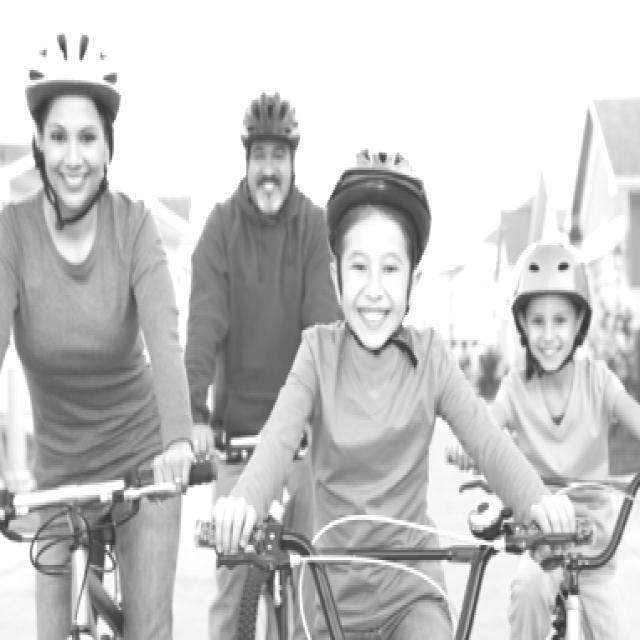Helmet: (322, 138, 441, 358), (24, 15, 130, 240), (508, 235, 596, 373), (233, 80, 308, 218)
